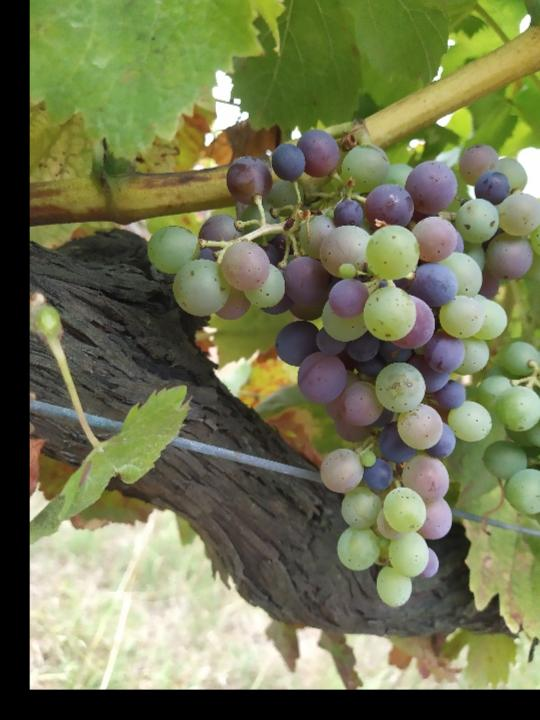grape: (145, 127, 540, 611)
